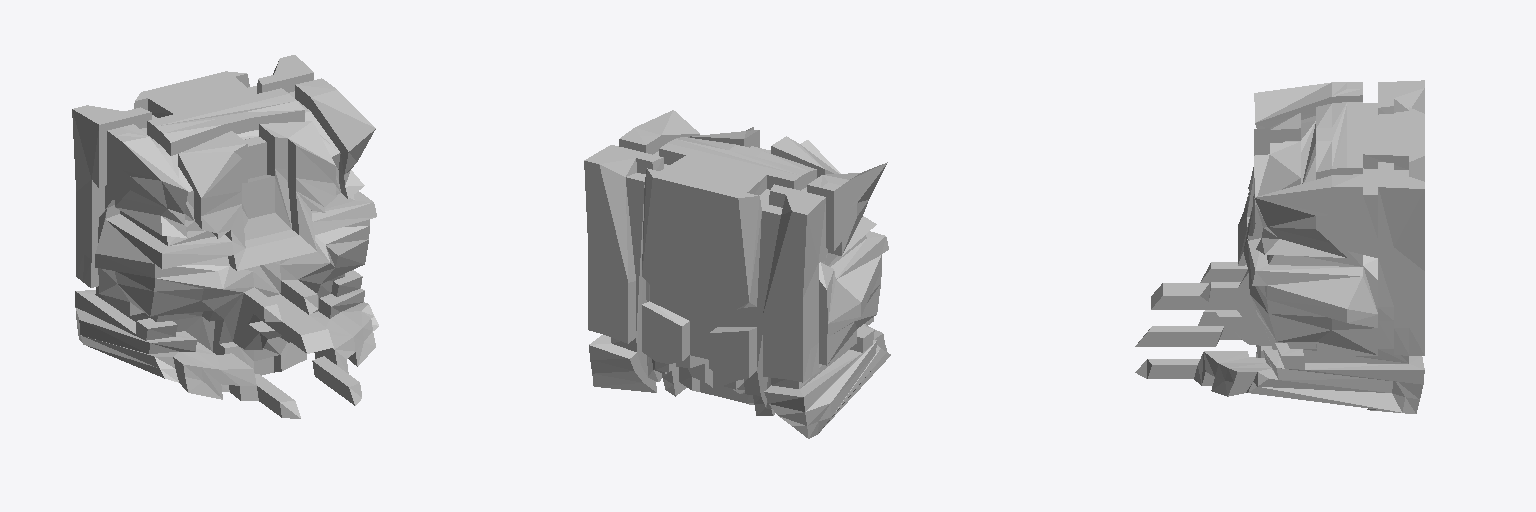
Rendered from FlyingHomingPlasmaDroneBot_LOD0.obj.
The picture shows the model from 3 angles: view 1: azimuth 30°, elevation 25°; view 2: azimuth 150°, elevation 25°; view 3: azimuth 270°, elevation 25°; orthographic projection.
Visible parts, largest first — view 1: FlyingHomingPlasmaDroneBot_LOD0; view 2: FlyingHomingPlasmaDroneBot_LOD0; view 3: FlyingHomingPlasmaDroneBot_LOD0.
Boxes of the visible parts, x1,y1,x2,y2 form: FlyingHomingPlasmaDroneBot_LOD0: [72, 55, 378, 418]; FlyingHomingPlasmaDroneBot_LOD0: [584, 110, 890, 438]; FlyingHomingPlasmaDroneBot_LOD0: [1135, 80, 1424, 413].
Bounding box in the file's own units: 1.89 × 1.73 × 1.87.